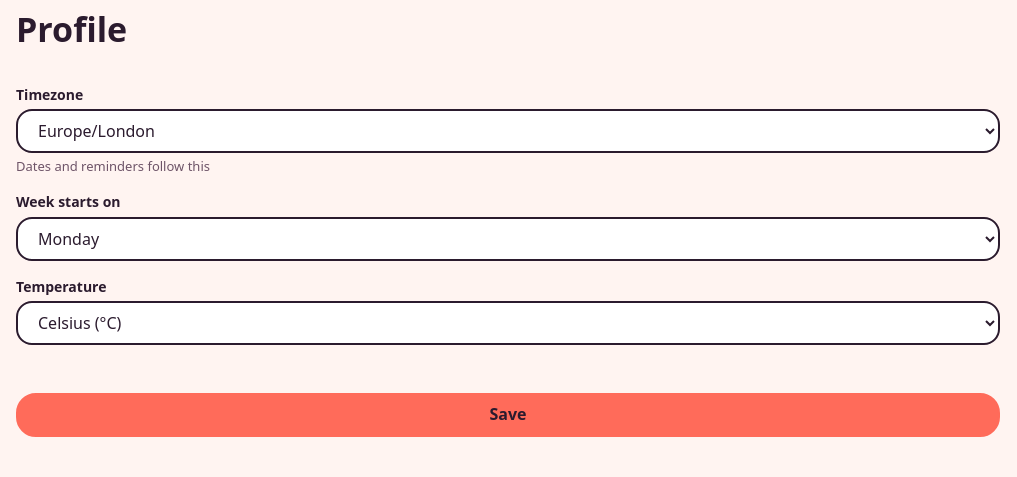
Test: [SET-1] profile: name, timezone, week start, temperature › only a settings change: the profile is not sent
The width and height of the screenshot is (1017, 477).
Select "Fahrenheit (°F)" in the dropdown labelled "Temperature" at (508, 323), box [16,301,1000,345]
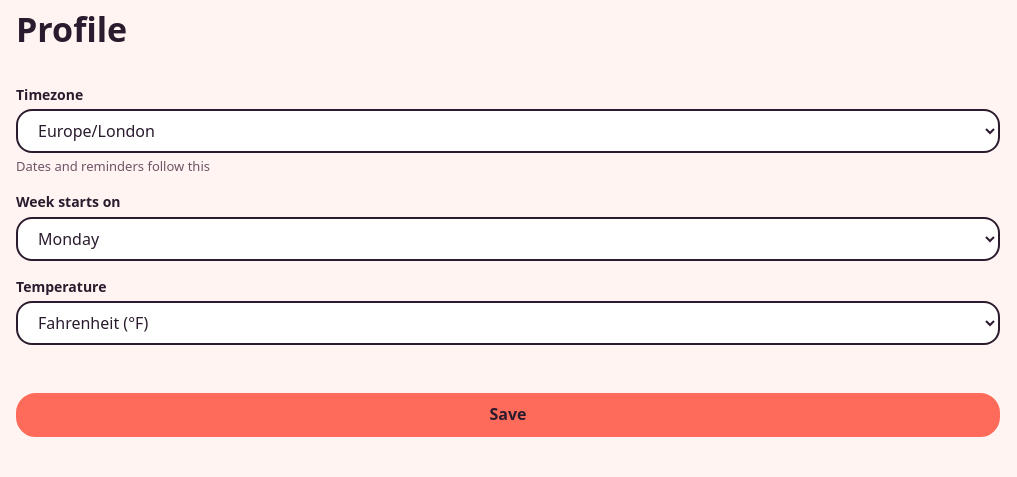
Click the button "Save".
click(508, 415)  # box [16,393,1000,437]
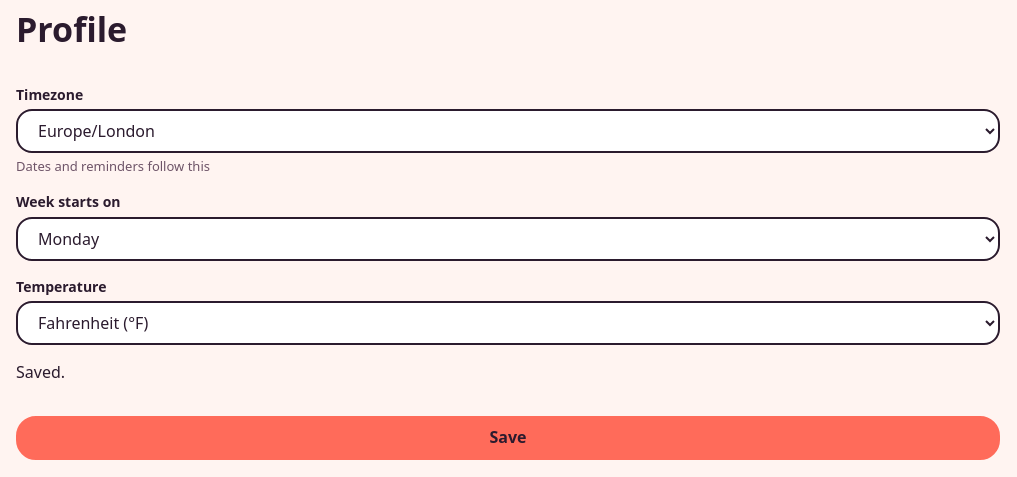
Expected: the text "Saved." is shown, [16,361,65,383]
